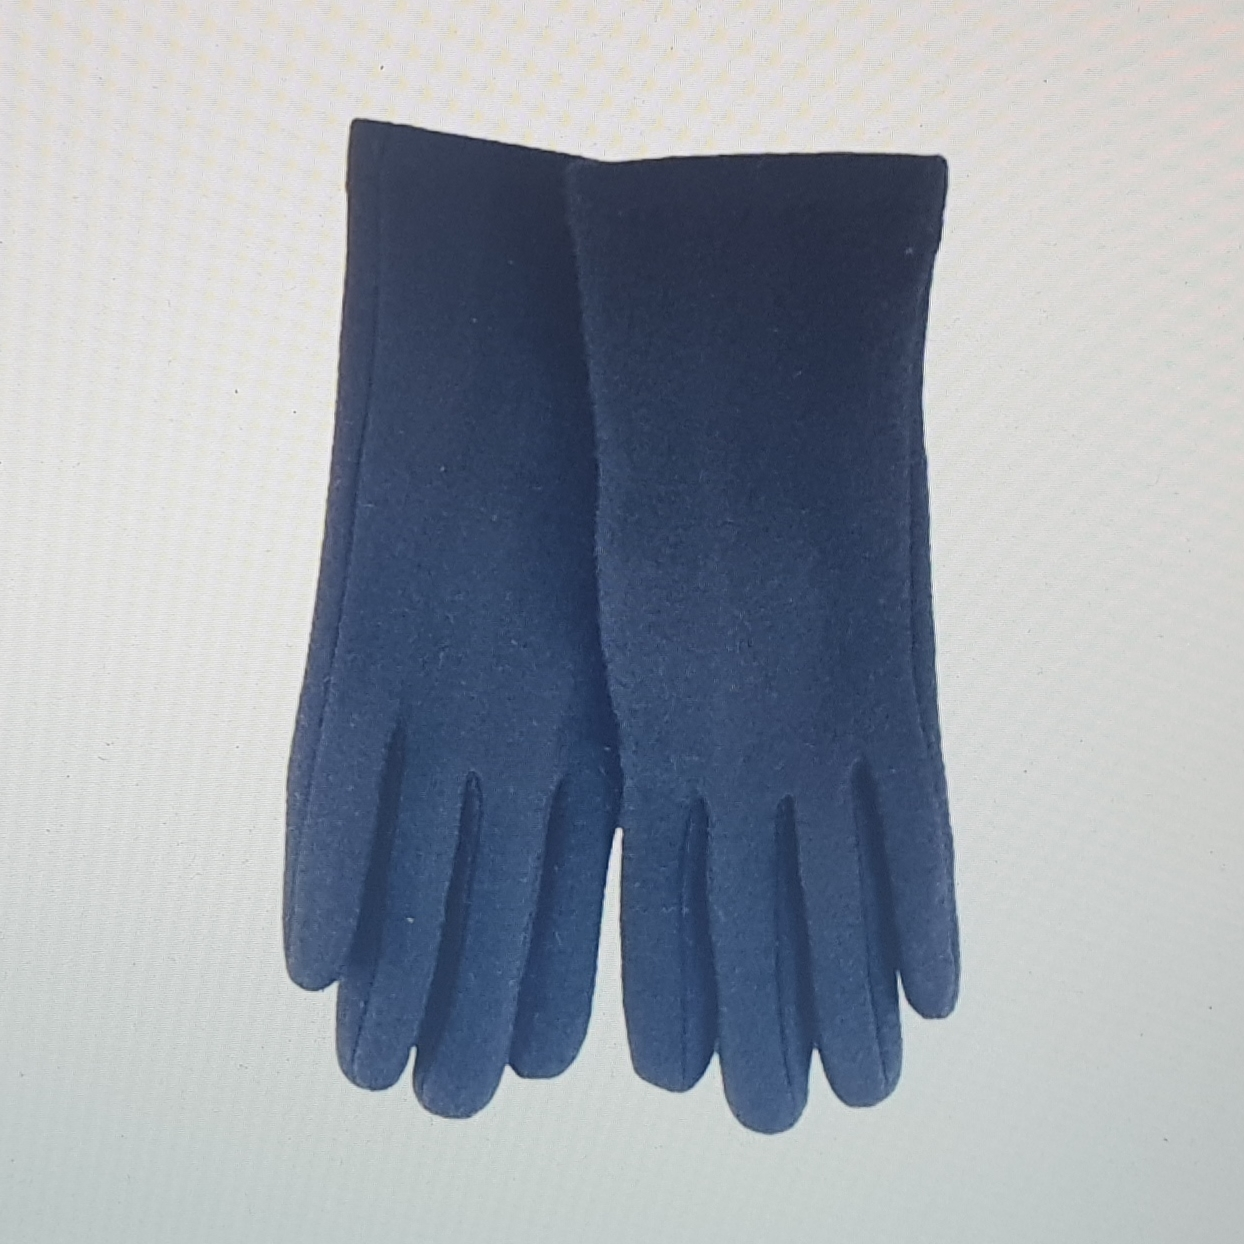Black: (275, 111, 975, 1140)
